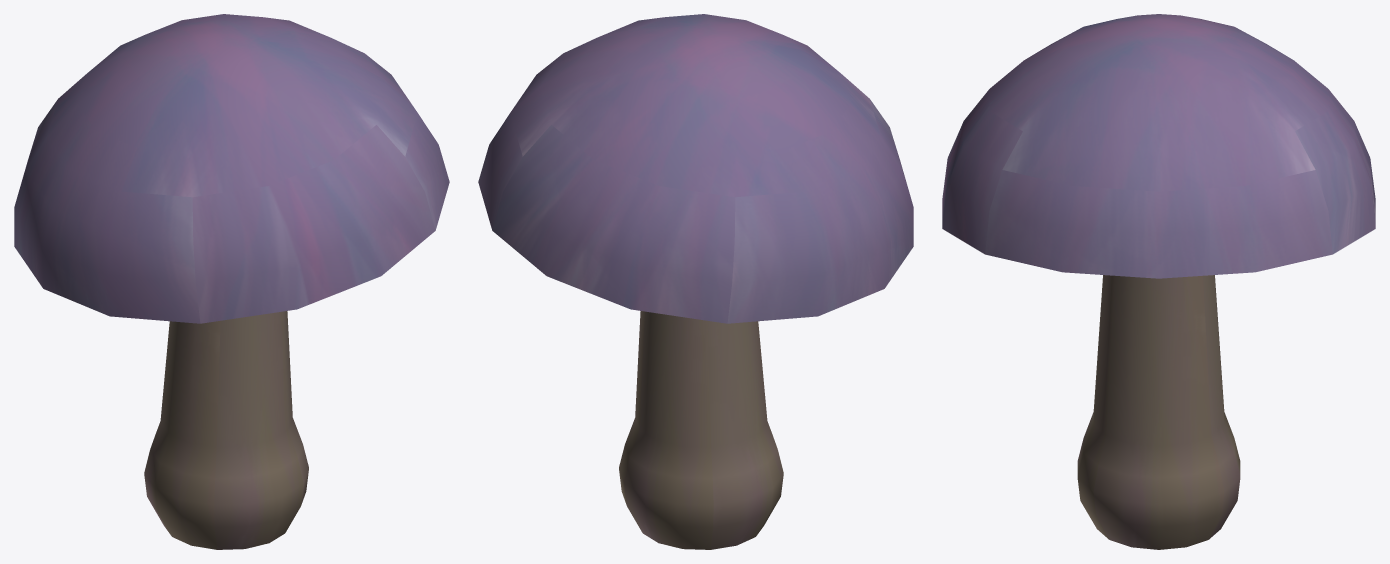
Rendered from Mushroom3.fbx.
The picture shows the model from 3 angles, left to right: view 1: azimuth 30°, elevation 25°; view 2: azimuth 150°, elevation 25°; view 3: azimuth 270°, elevation 25°; orthographic projection.
Parts seen in each view (by area): view 1: Mushroom3; view 2: Mushroom3; view 3: Mushroom3.
Part boxes in pixels (x1,y1,x2,y2): Mushroom3: (14, 14, 449, 549); Mushroom3: (478, 14, 913, 549); Mushroom3: (942, 14, 1375, 549).
Size of the model in its own units: 4.85 by 5.98 by 4.76.
